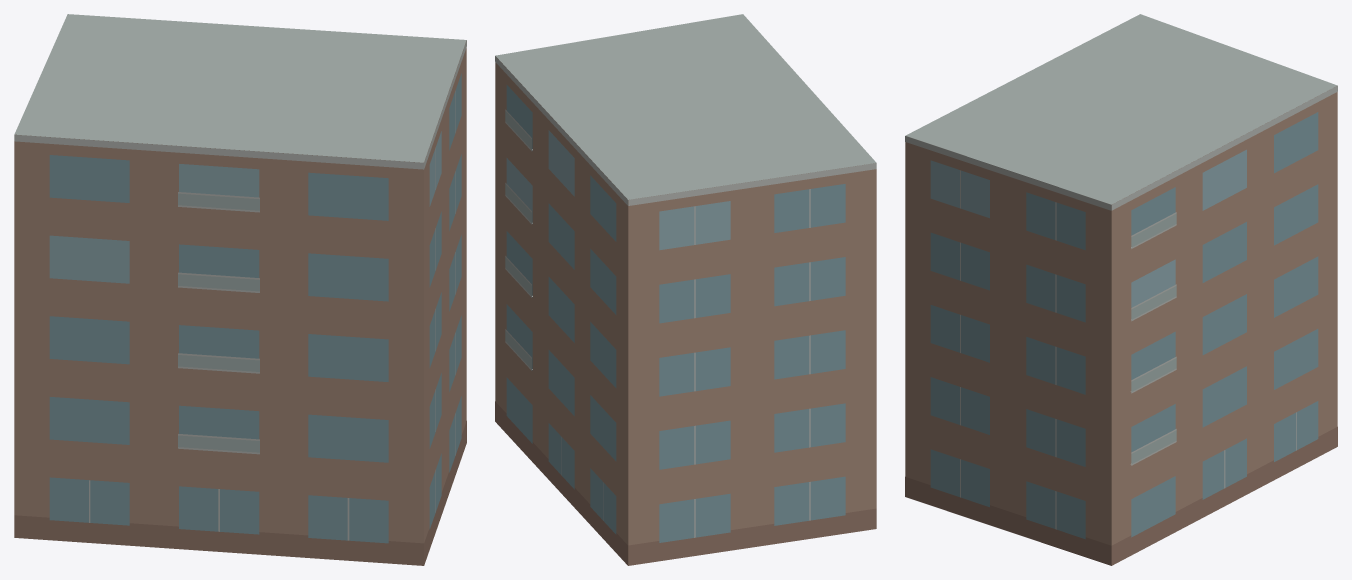
File: survey-upis-32849474.glb
3 renders of one model, left to right at view 1: azimuth 30°, elevation 25°; view 2: azimuth 150°, elevation 25°; view 3: azimuth 270°, elevation 25°, orthographic. The views are drawn at different scales.
Parts seen in each view (by area): view 1: survey-upis-32849474.tmp; view 2: survey-upis-32849474.tmp; view 3: survey-upis-32849474.tmp.
Part boxes in pixels (x1,y1,x2,y2): survey-upis-32849474.tmp: [14, 14, 466, 565]; survey-upis-32849474.tmp: [495, 14, 876, 565]; survey-upis-32849474.tmp: [905, 14, 1337, 565].
Size of the model in its own units: 16.36 by 14.44 by 15.69.
